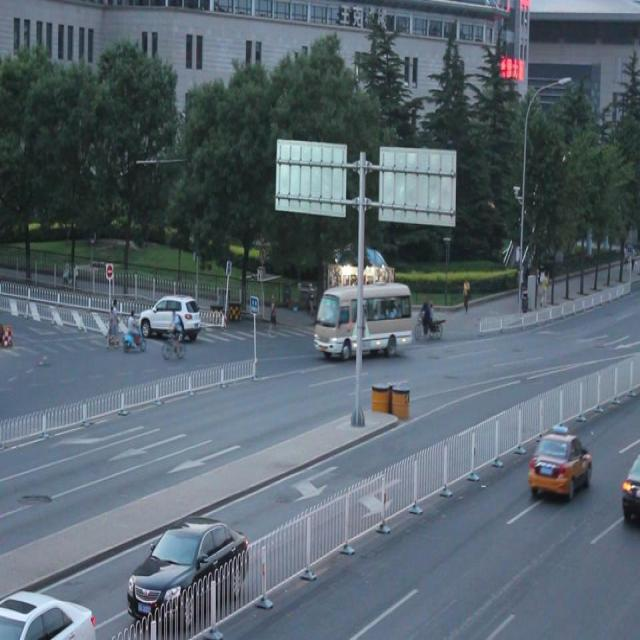car: (128, 517, 248, 631), (0, 589, 96, 640), (527, 425, 592, 497), (138, 294, 200, 344), (618, 449, 640, 516)
truck: (315, 280, 412, 358)
